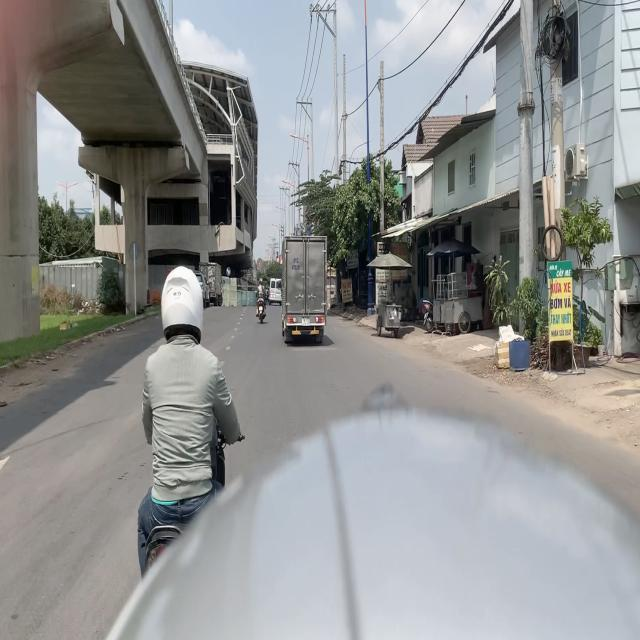Hieu lenh: (226, 266, 231, 276)
